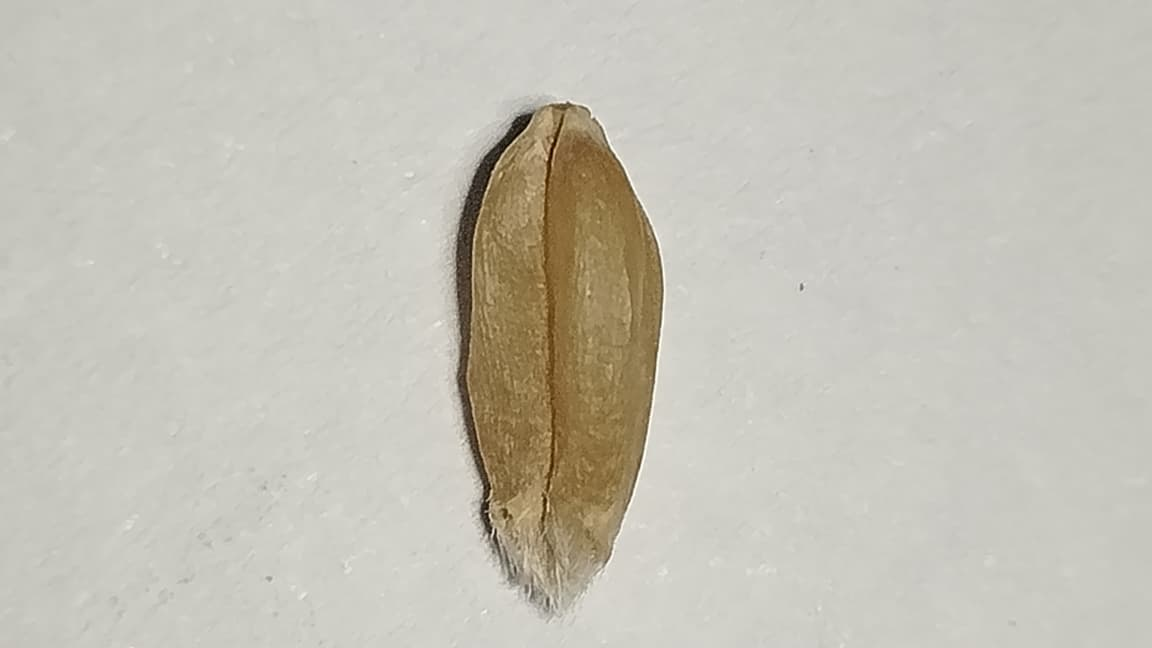healthy: (467, 106, 661, 564)
